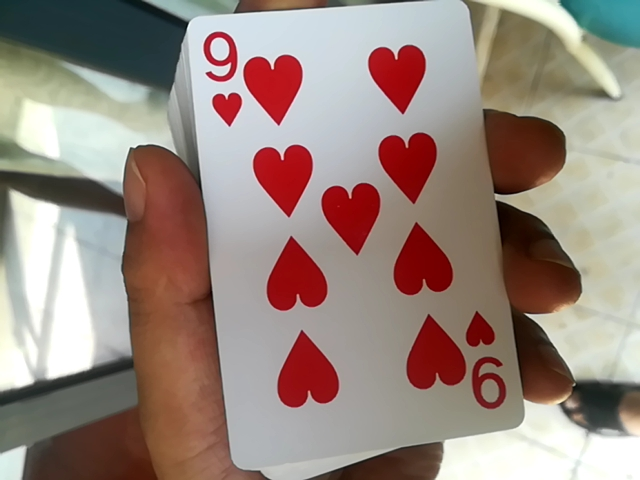hx 9: (189, 5, 543, 469)
